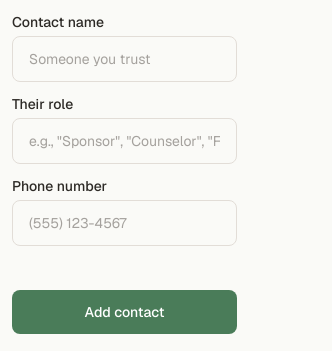
it: SupportContactForm › validation › shows error when phone is empty
The image size is (332, 351).
In the field labelled "Contact name": [124, 59] box [12,36,237,82], type "Jane"
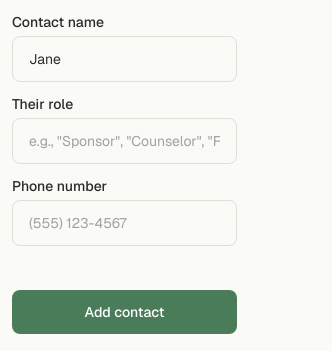
In the field labelled "Their role": [124, 141] box [12,118,237,164], type "Friend"
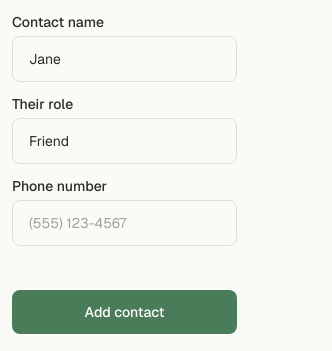
Click the button "Add contact": [124, 312] box [12,290,237,334]
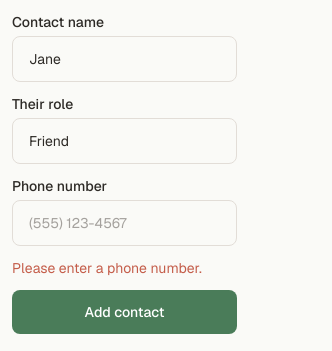
Expected: the text "Please enter a phone number." is shown, [12,259,202,277]
